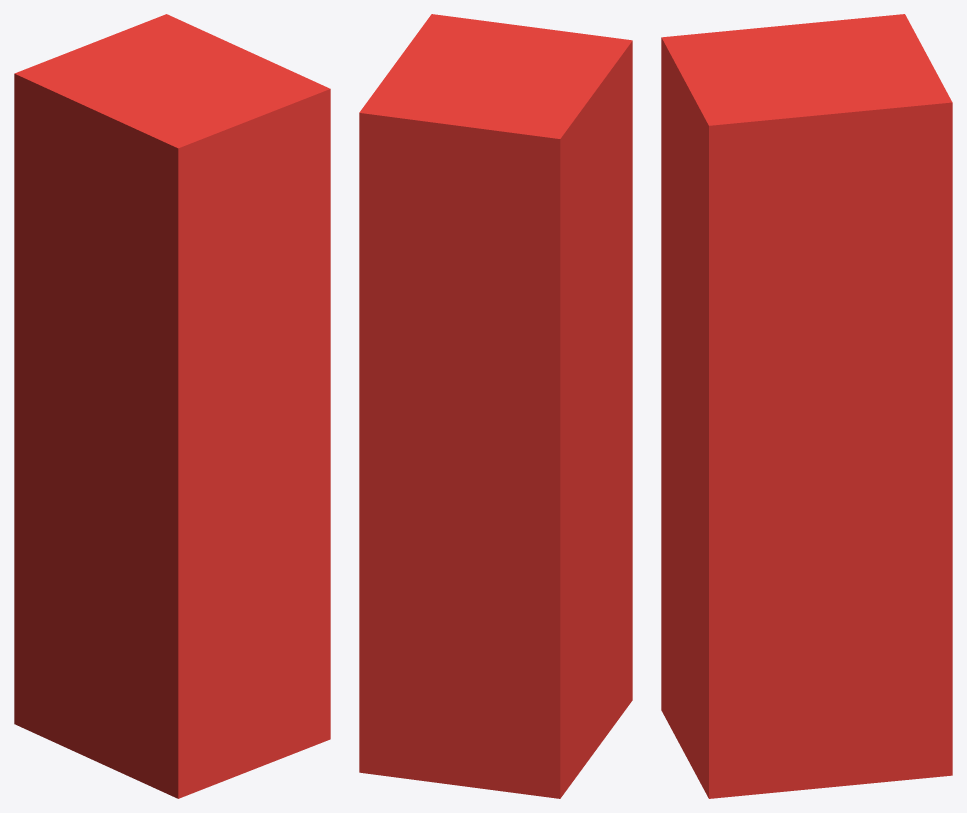
The model's file is parlante3.glb.
3 renders of one model, left to right at view 1: azimuth 30°, elevation 25°; view 2: azimuth 150°, elevation 25°; view 3: azimuth 270°, elevation 25°, orthographic. The views are drawn at different scales.
Parts seen in each view (by area): view 1: Parlante.103; view 2: Parlante.103; view 3: Parlante.103.
Boxes of the visible parts, x1=… form: Parlante.103: x1=14, y1=14, x2=330, y2=798; Parlante.103: x1=359, y1=14, x2=632, y2=798; Parlante.103: x1=661, y1=14, x2=952, y2=798.
Bounding box in the file's own units: 317 × 890 × 349.
